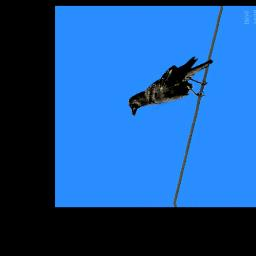Crow: (124, 55, 218, 119)
